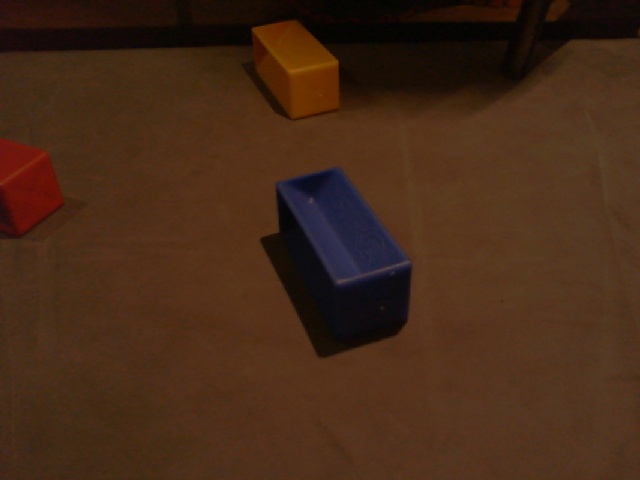BlueSample: (271, 166, 415, 343)
RedSample: (1, 133, 66, 233)
YellowSample: (248, 17, 342, 120)
